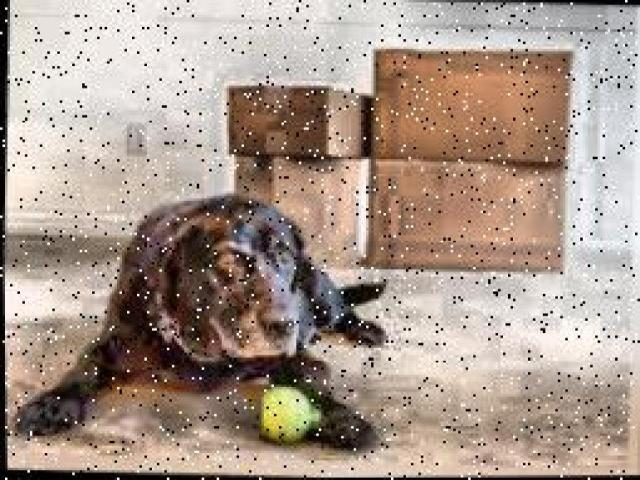tennis-ball: (263, 382, 317, 453)
